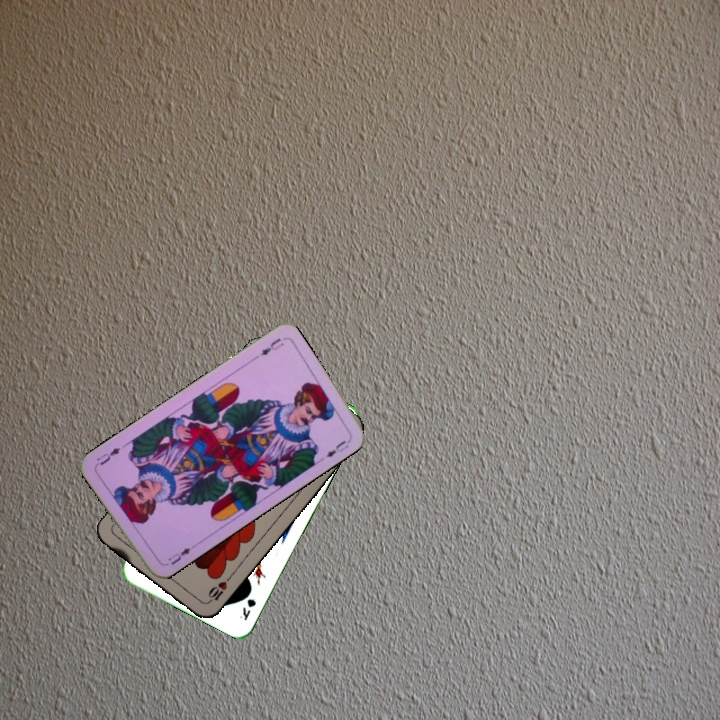EU: (164, 543, 193, 568), (256, 334, 286, 358)
GK: (235, 595, 259, 623)
H10: (202, 573, 233, 607)
